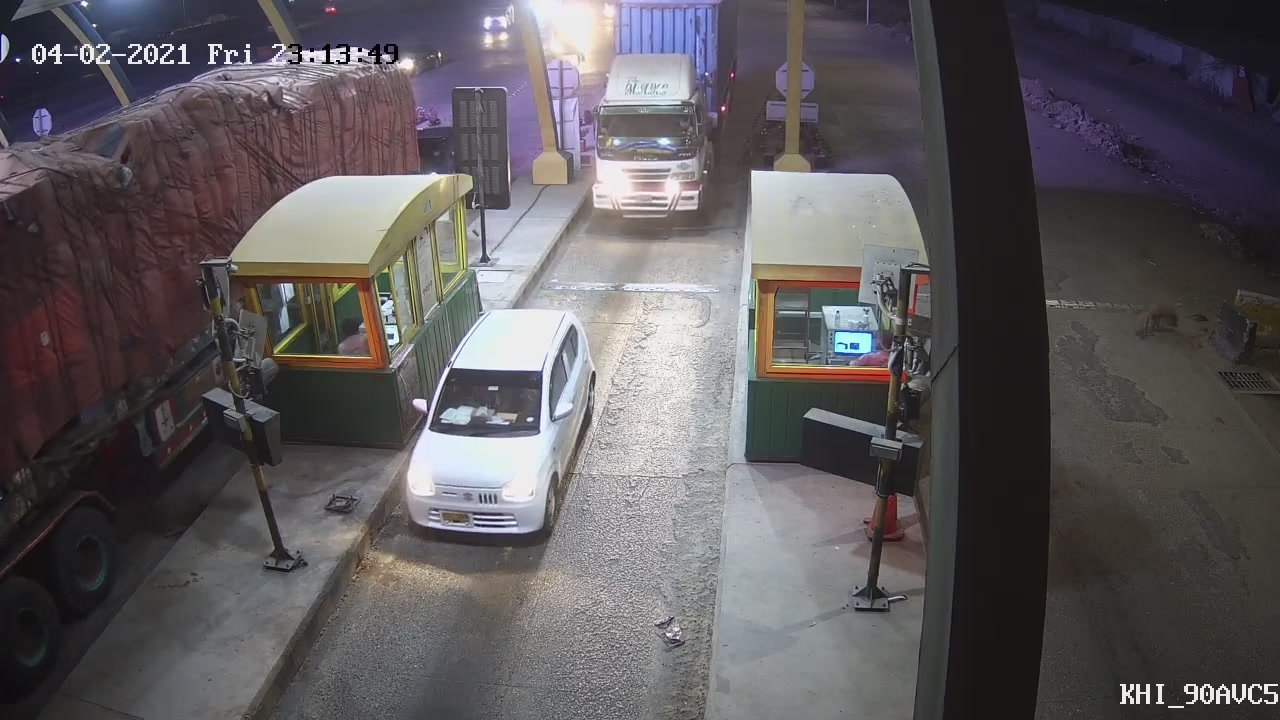F1: (398, 306, 596, 549), (580, 5, 727, 233)
